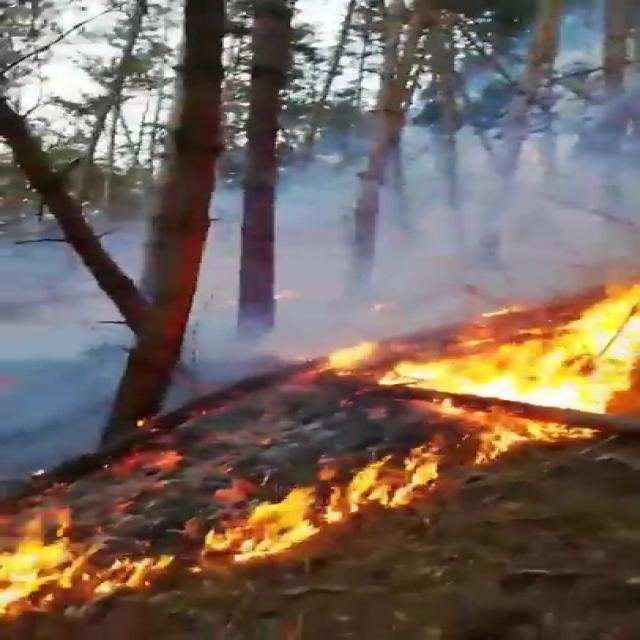Fire: (0, 396, 555, 616), (311, 268, 638, 454)
Smoke: (235, 38, 640, 351)
